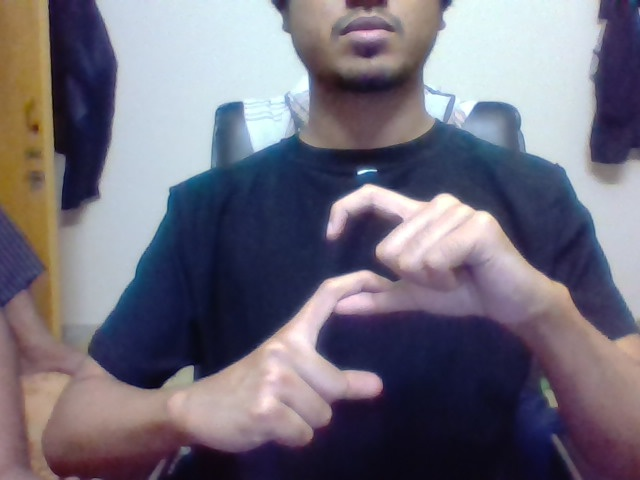S: (306, 182, 397, 398)
